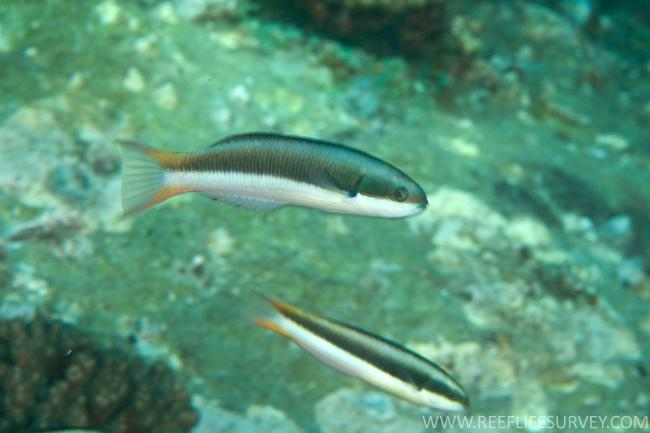fish: (238, 285, 470, 412), (113, 133, 430, 219)
